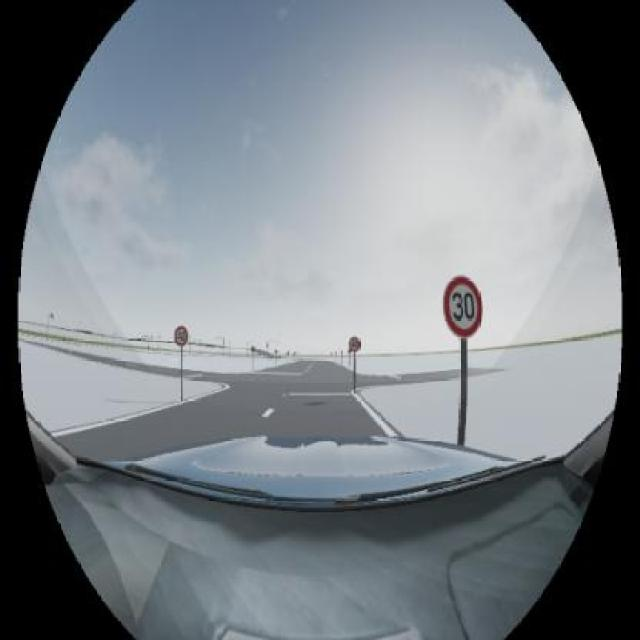forb_speed_over_30: (443, 276, 483, 339)
